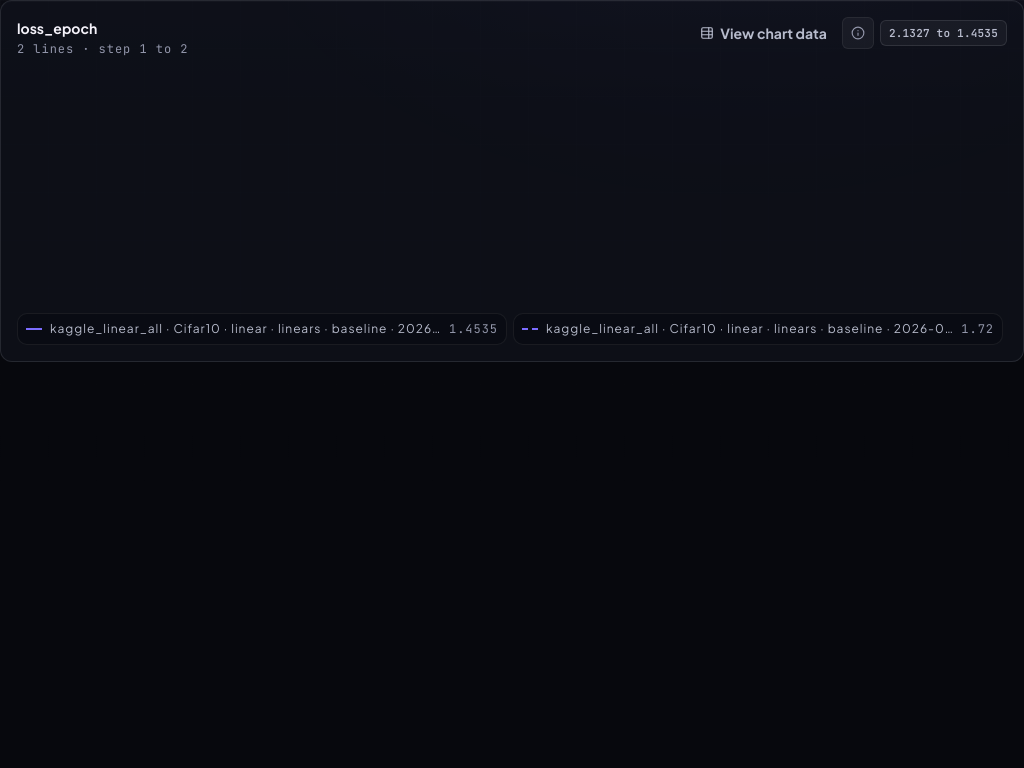
Logs scalar rendering › shared card contract and Adapter projections › shows the chronological displayed trend for decreasing train-validation loss
This screenshot has width=1024, height=768.
Expected: the text "2.1327 to 1.4535" is shown, [880,20,1007,46]
Click the button named "Explain metric loss_epoch" at (858, 33), box [842,17,874,49]
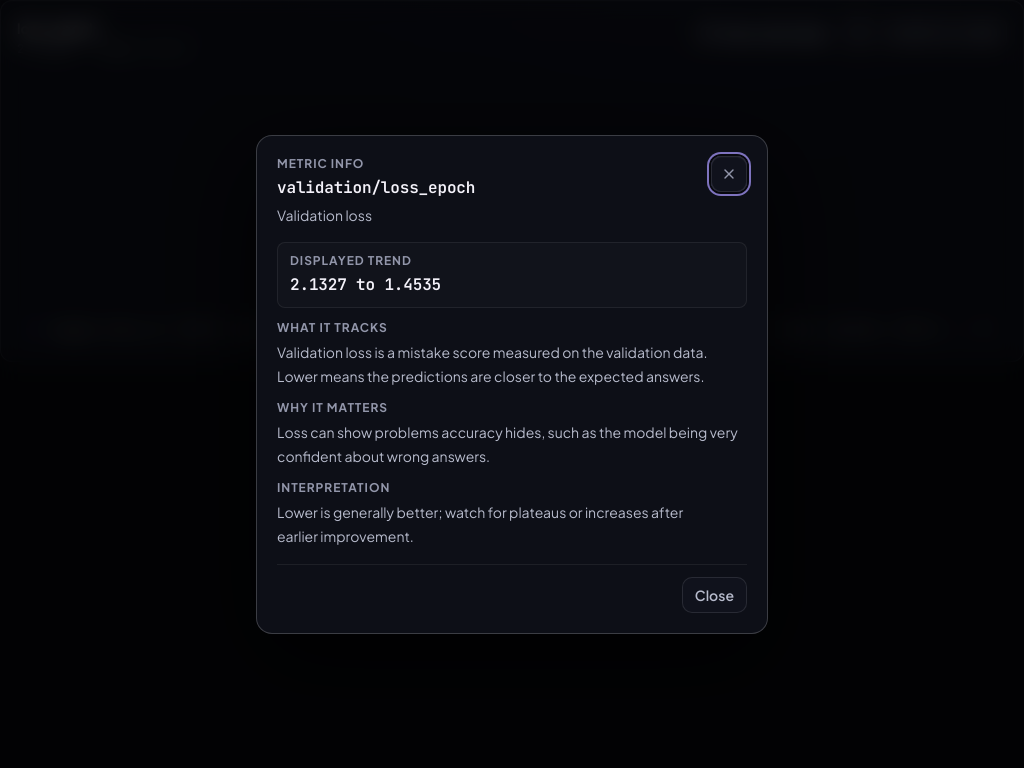
Now the text "Displayed trend" is shown, box [290,252,412,268]
Now the text "2.1327 to 1.4535" is shown, box [290,274,441,294]
